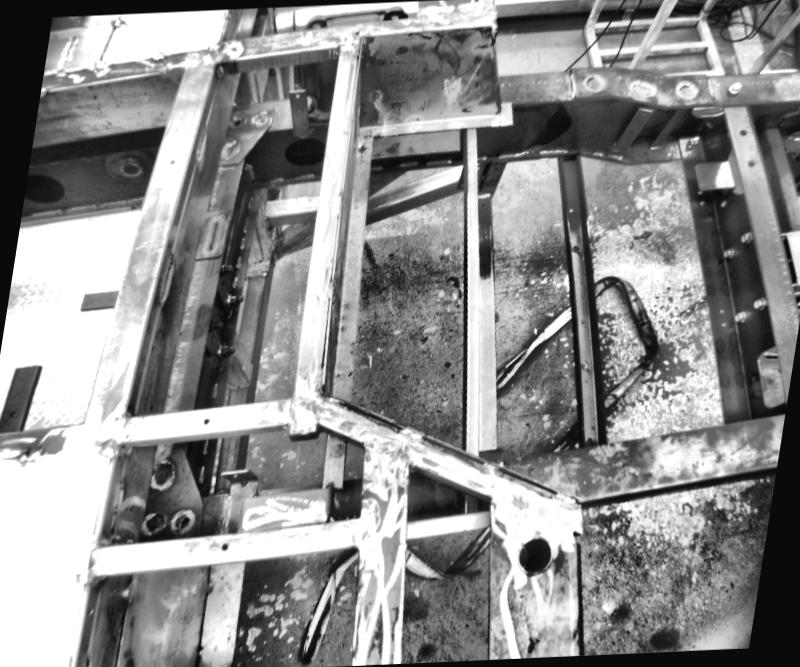bolt: (216, 261, 234, 277), (726, 78, 742, 96), (214, 343, 236, 356), (224, 293, 244, 307), (749, 294, 765, 310), (682, 134, 700, 148), (720, 246, 736, 260), (740, 232, 752, 244), (732, 310, 744, 322)
bracket: (208, 461, 268, 536), (684, 150, 739, 205), (746, 343, 790, 410), (0, 365, 38, 438), (278, 84, 320, 140), (73, 286, 119, 312)
hole: (512, 534, 554, 574), (116, 158, 144, 176), (198, 414, 212, 428), (4, 408, 18, 419), (217, 540, 229, 552), (580, 360, 588, 372), (584, 434, 592, 444), (564, 205, 574, 212), (180, 516, 188, 524), (738, 128, 746, 136), (570, 245, 578, 253), (719, 321, 727, 329), (746, 161, 754, 167), (716, 308, 722, 314), (168, 159, 174, 163), (293, 93, 299, 97), (481, 202, 484, 206)
